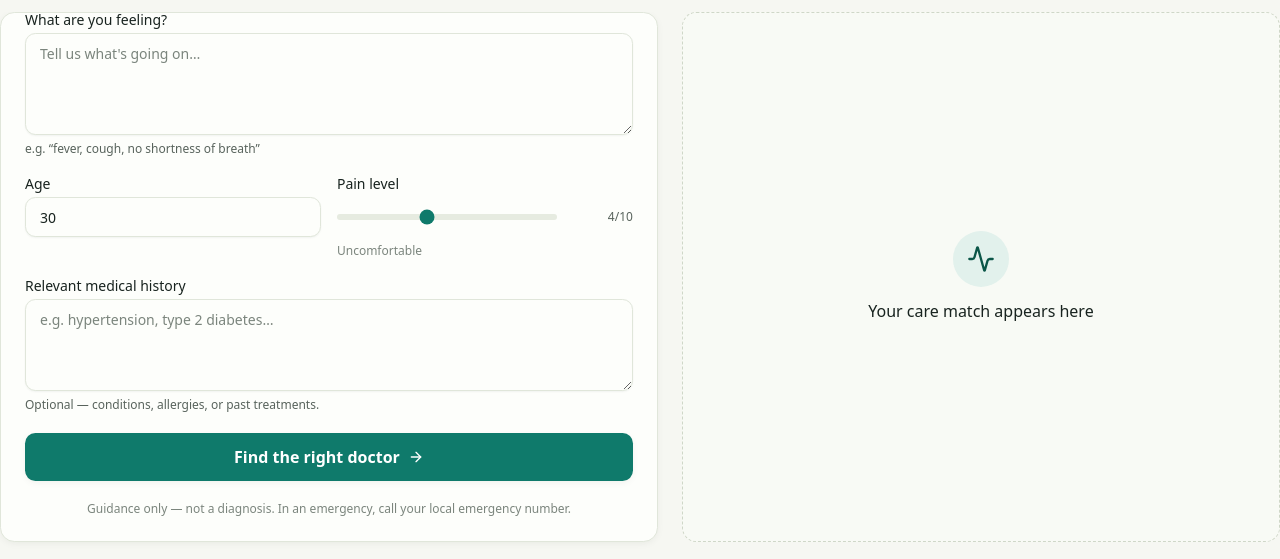
Test: SymptomChecker smart check › lists unclear spellings instead of guessing
The image size is (1280, 559).
Click the text box labelled "What are you feeling?".
click(329, 84)  # box [25,33,633,135]
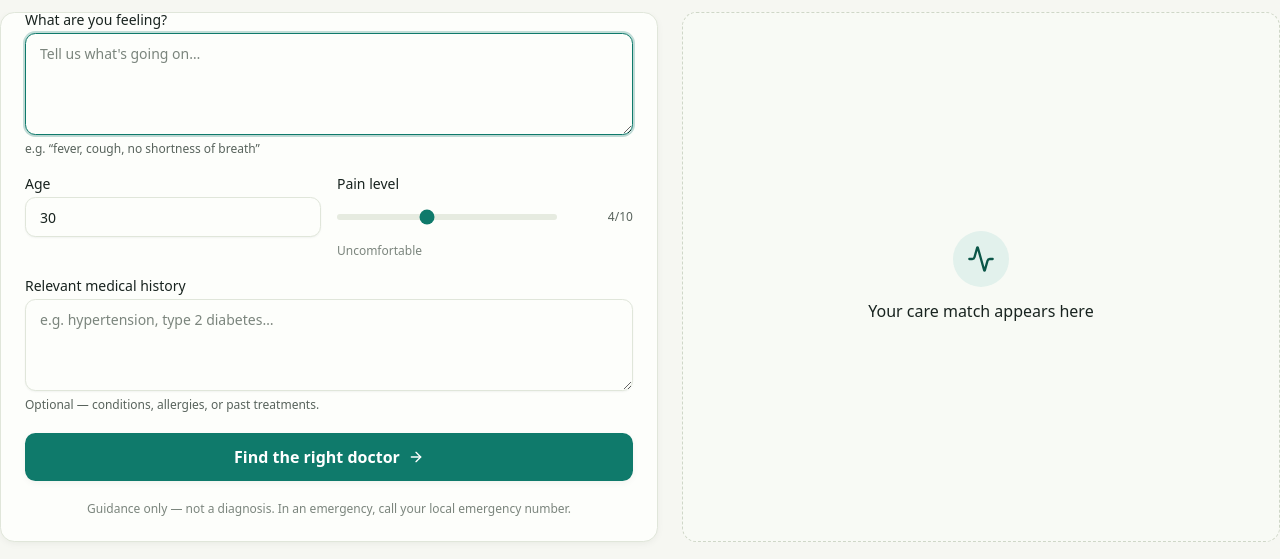
Type keys "feverr and cough"
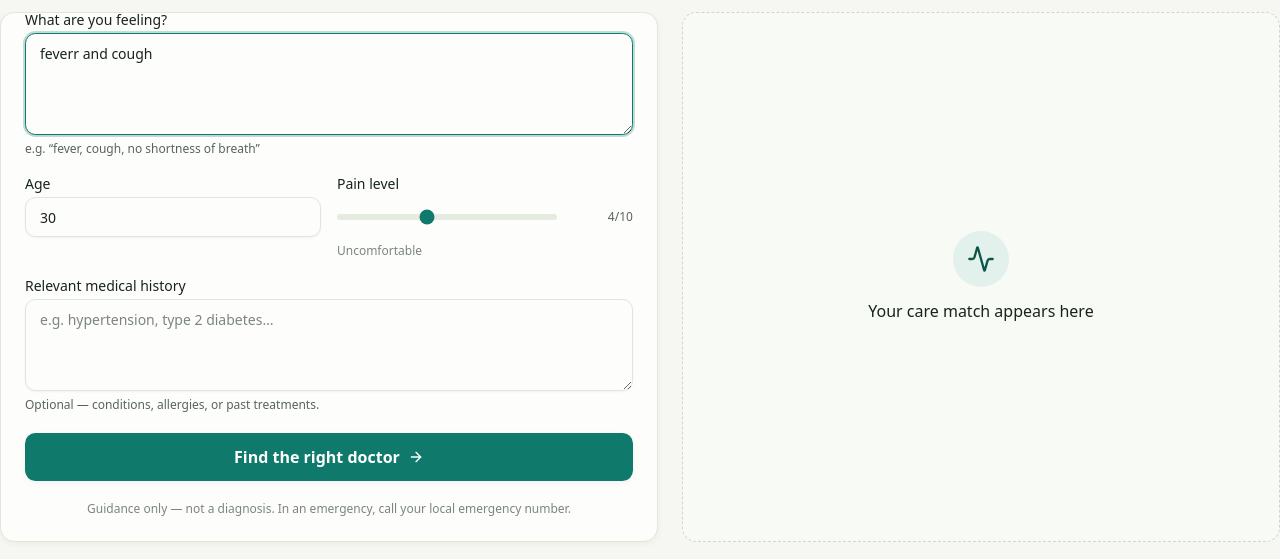
Click the button "Find the right doctor".
click(329, 457)  # box [25,433,633,481]
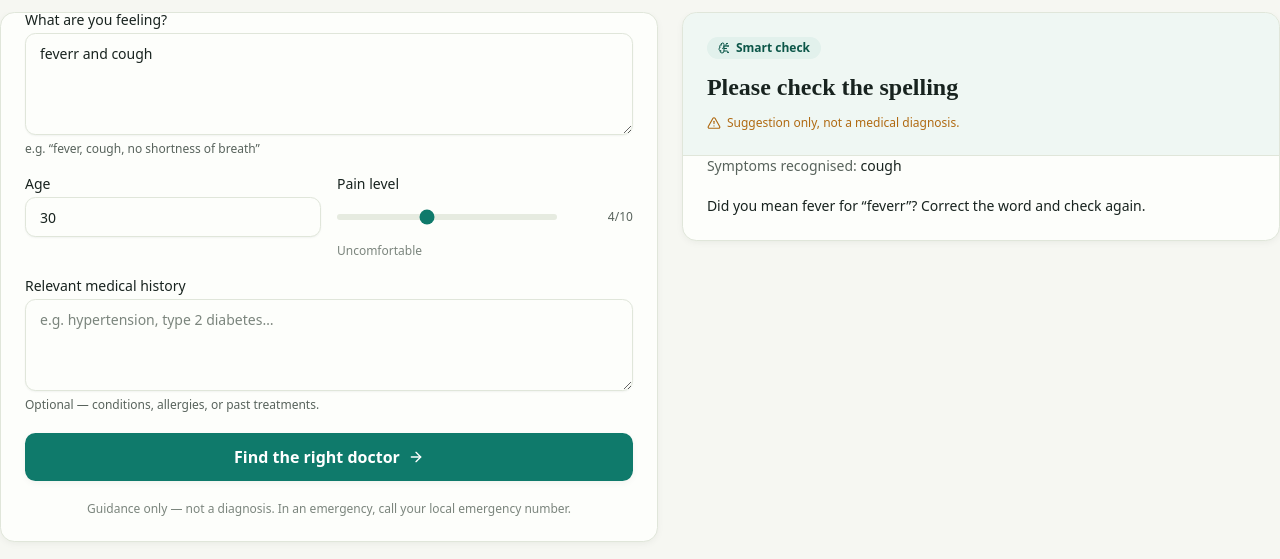
Now the text "Please check the spelling" is shown, box [707,74,958,100]
Now the list item "for “feverr”" is shown, box [707,196,1146,215]
